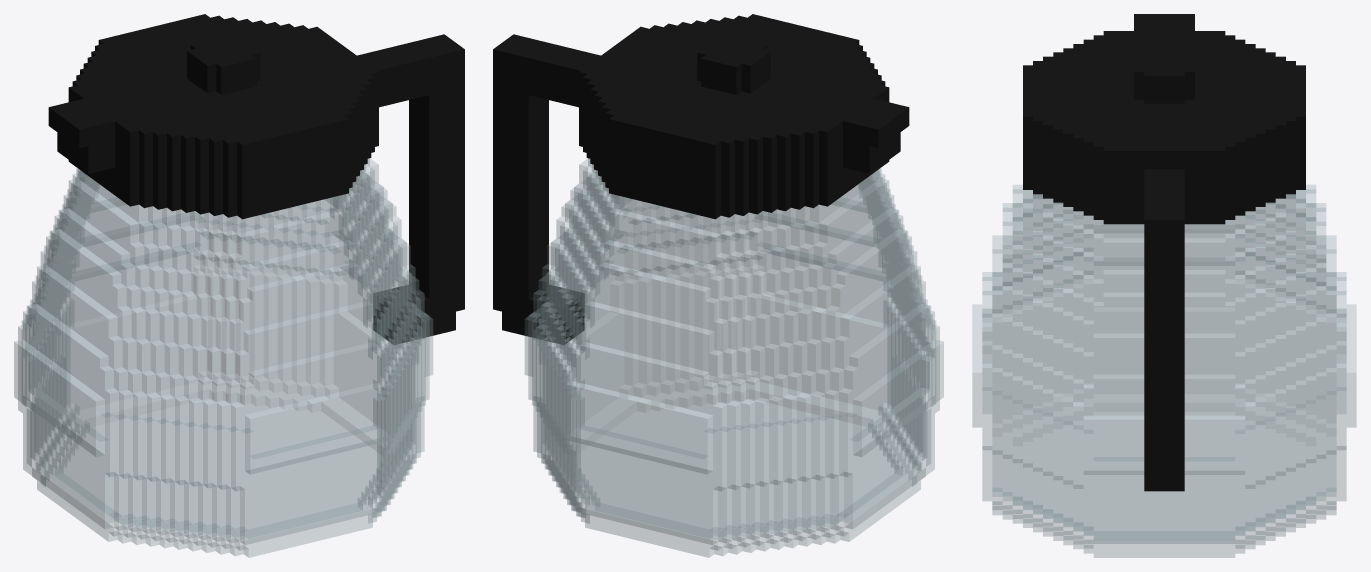
Rendered from coffeepot.glb.
The picture shows the model from 3 angles, left to right: view 1: azimuth 30°, elevation 25°; view 2: azimuth 150°, elevation 25°; view 3: azimuth 270°, elevation 25°; orthographic projection.
Visible parts, largest first — view 1: coffeepot:compound; view 2: coffeepot:compound; view 3: coffeepot:compound.
Part boxes in pixels (x1,y1,x2,y2): coffeepot:compound: (14, 14, 464, 557); coffeepot:compound: (493, 14, 943, 557); coffeepot:compound: (972, 14, 1356, 557).
Size of the model in its own units: 0.18 by 0.184 by 0.152.
